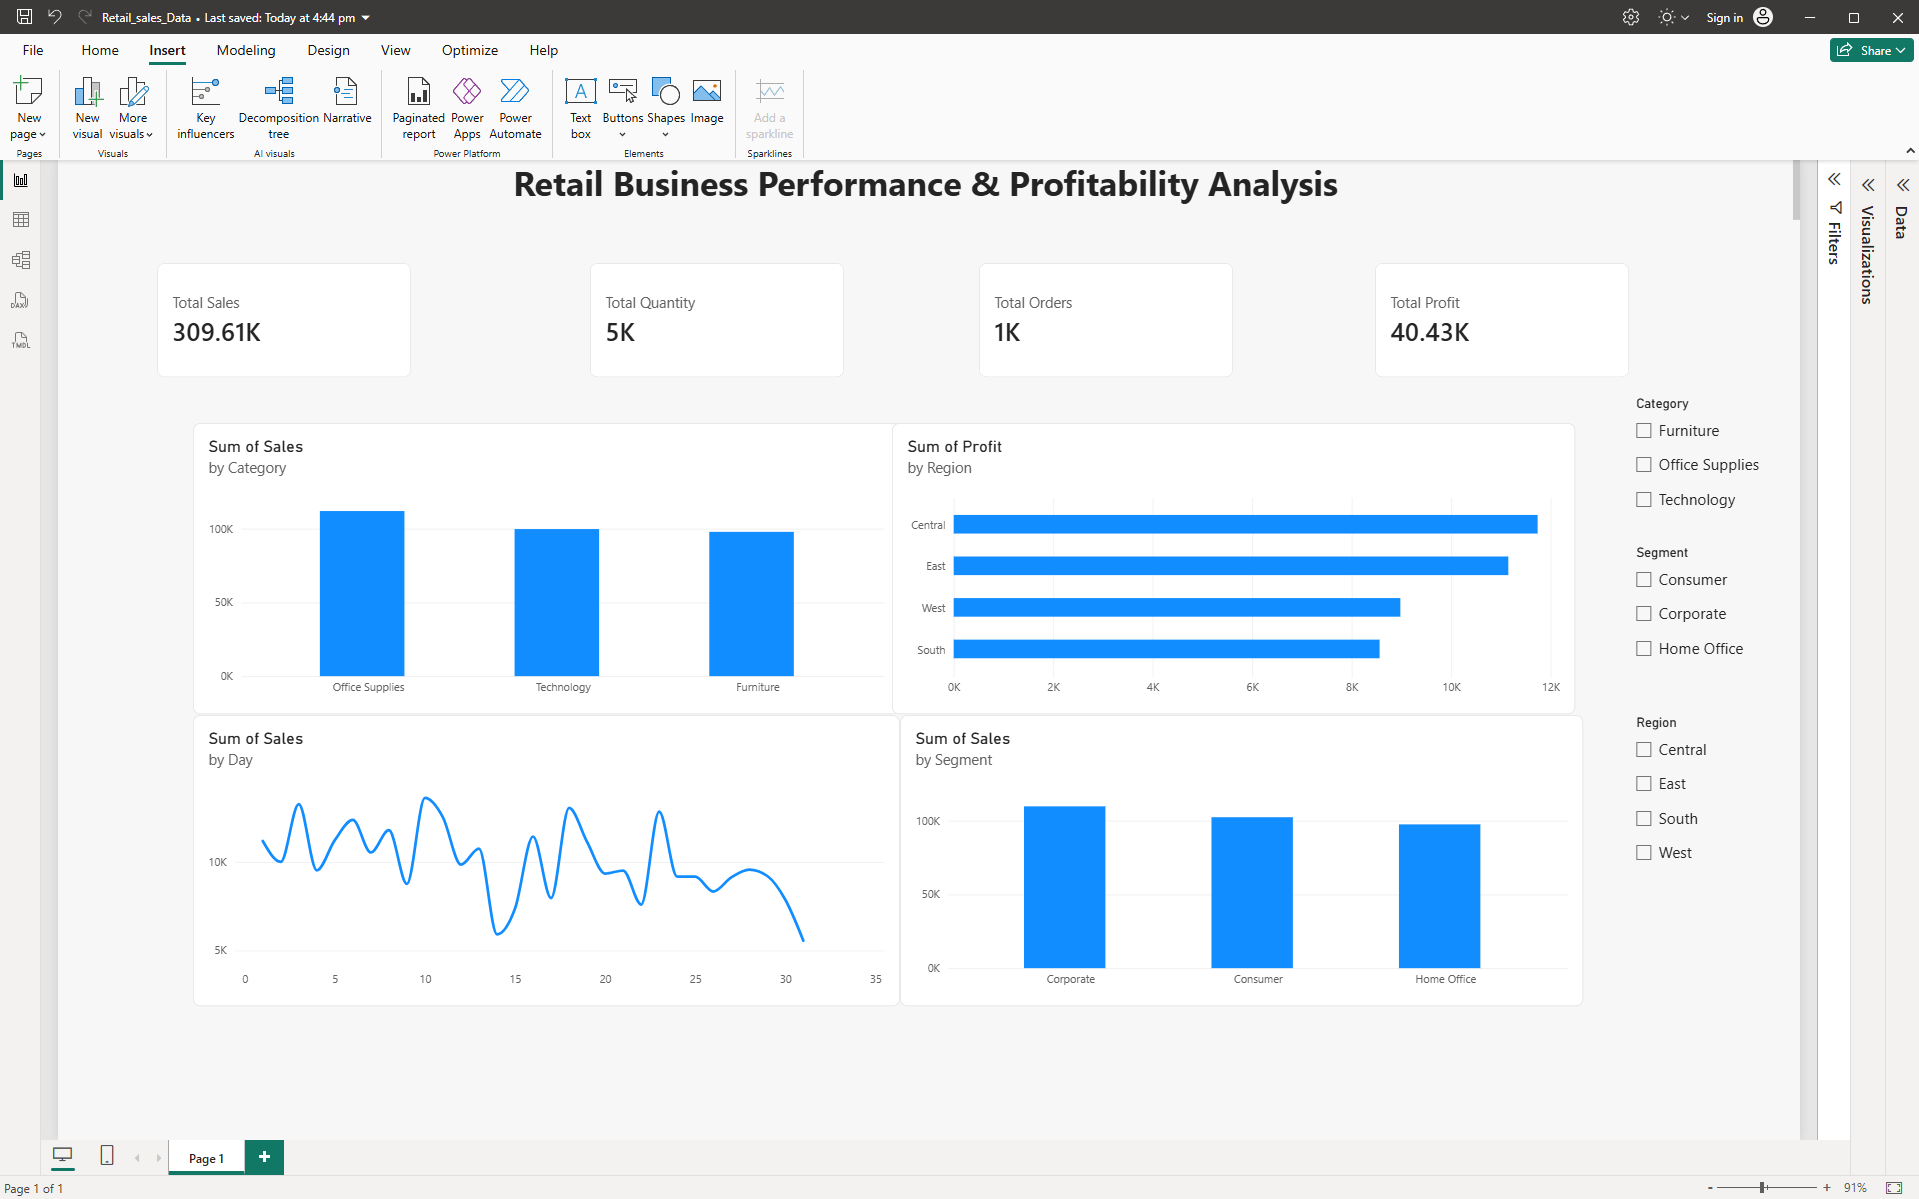

What the dashboard file says about the page in this screenshot:
{"tool":"powerbi","page":{"name":"Page 1","canvas":[1920,1080],"ordinal":0},"visuals":[{"type":"cardVisual","fields":{"Data":["Retail_Sales_Data.Total Sales"]},"box":[109.4,113.8,280.1,126.9],"z":0},{"type":"cardVisual","fields":{"Data":["Retail_Sales_Data.Total Profit"]},"box":[1451.7,113.8,280.1,126.9],"z":1000},{"type":"cardVisual","fields":{"Data":["Retail_Sales_Data.Total Orders"]},"box":[1015.4,113.8,280.1,126.9],"z":2000},{"type":"cardVisual","fields":{"Data":["Retail_Sales_Data.Total Quantity"]},"box":[586.5,113.8,280.1,126.9],"z":3000},{"type":"clusteredColumnChart","fields":{"Category":["Retail_Sales_Data.Category"],"Y":["Sum(Retail_Sales_Data.Sales)"]},"box":[148.8,290.3,779.1,321],"z":4000},{"type":"clusteredBarChart","fields":{"Category":["Retail_Sales_Data.Region"],"Y":["Sum(Retail_Sales_Data.Profit)"]},"box":[919.1,290.3,752.8,321],"z":5000},{"type":"lineChart","fields":{"Category":["Retail_Sales_Data.Order Date.Variation.Date Hierarchy.Day"],"Y":["Sum(Retail_Sales_Data.Sales)"]},"box":[148.8,611.3,779.1,321],"z":6000},{"type":"clusteredColumnChart","fields":{"Category":["Retail_Sales_Data.Segment"],"Y":["Sum(Retail_Sales_Data.Sales)"]},"box":[927.9,611.3,752.8,321],"z":7000},{"type":"slicer","fields":{"Values":["Retail_Sales_Data.Region"]},"box":[1731.8,611.3,188.2,179.5],"z":8000},{"type":"slicer","fields":{"Values":["Retail_Sales_Data.Segment"]},"box":[1731.8,424.6,188.2,135.7],"z":9000},{"type":"slicer","fields":{"Values":["Retail_Sales_Data.Category"]},"box":[1731.8,259.7,188.2,137.1],"z":10000},{"type":"textbox","box":[0,0,1920,67.1],"z":11000}]}

Visuals, with their boxes on the page's 1920x1080 design canvas (x1, y1, x2, y2). These are canvas units, not pixel positions in the 1919x1199 screenshot, which may show the page scaled, cropped or inside an application window:
cardVisual - Retail_Sales_Data.Total Sales: x1=109, y1=114, x2=390, y2=241
cardVisual - Retail_Sales_Data.Total Profit: x1=1452, y1=114, x2=1732, y2=241
cardVisual - Retail_Sales_Data.Total Orders: x1=1015, y1=114, x2=1296, y2=241
cardVisual - Retail_Sales_Data.Total Quantity: x1=586, y1=114, x2=867, y2=241
clusteredColumnChart - Retail_Sales_Data.Category x Sum(Retail_Sales_Data.Sales): x1=149, y1=290, x2=928, y2=611
clusteredBarChart - Retail_Sales_Data.Region x Sum(Retail_Sales_Data.Profit): x1=919, y1=290, x2=1672, y2=611
lineChart - Retail_Sales_Data.Order Date.Variation.Date Hierarchy.Day x Sum(Retail_Sales_Data.Sales): x1=149, y1=611, x2=928, y2=932
clusteredColumnChart - Retail_Sales_Data.Segment x Sum(Retail_Sales_Data.Sales): x1=928, y1=611, x2=1681, y2=932
slicer - Retail_Sales_Data.Region: x1=1732, y1=611, x2=1920, y2=791
slicer - Retail_Sales_Data.Segment: x1=1732, y1=425, x2=1920, y2=560
slicer - Retail_Sales_Data.Category: x1=1732, y1=260, x2=1920, y2=397
textbox: x1=0, y1=0, x2=1920, y2=67
